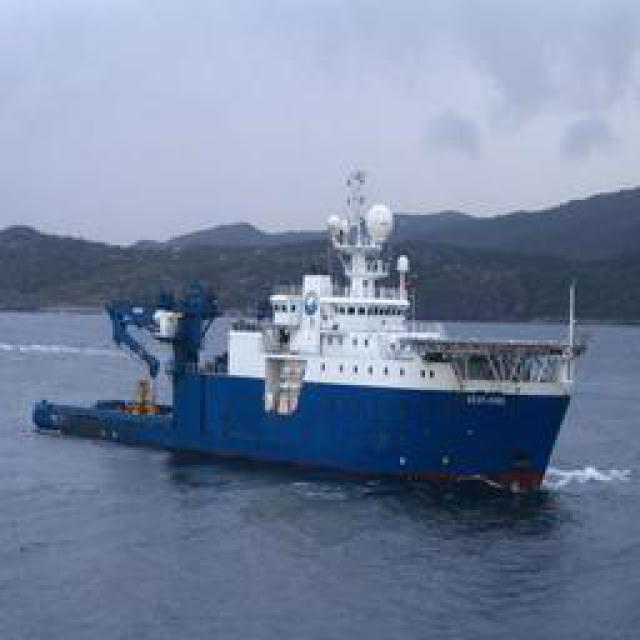Ship: (34, 209, 589, 492)
